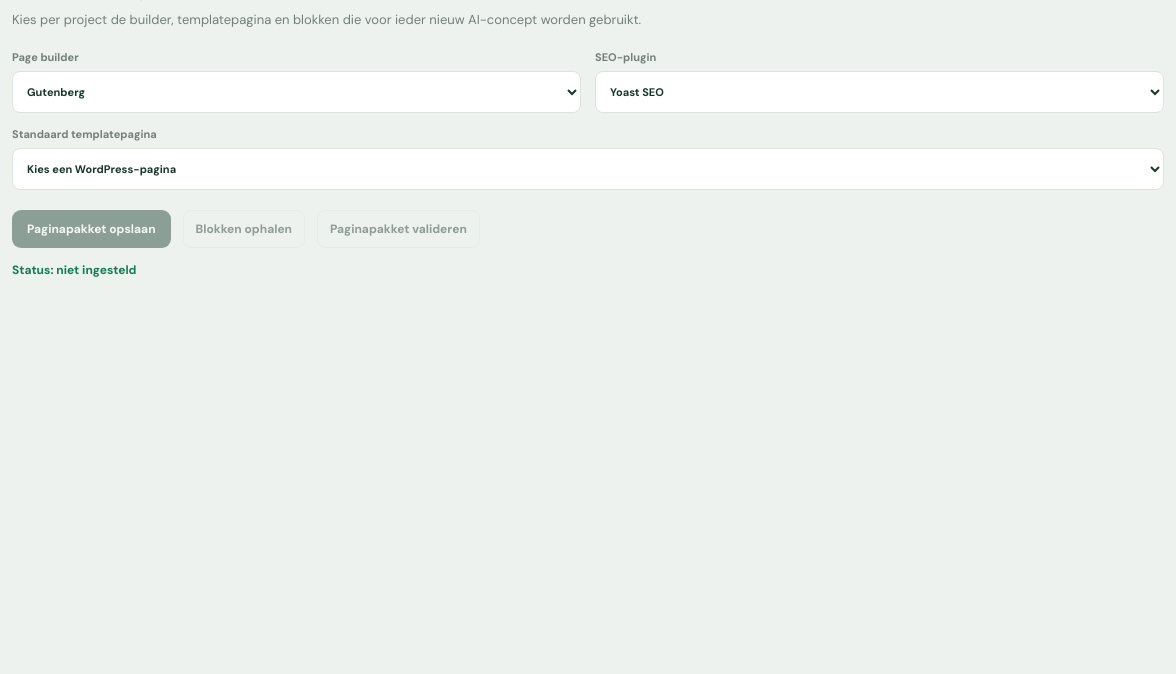
PagePackageSettingsPanel › loads discovered template blocks for one-time mapping
The width and height of the screenshot is (1176, 674).
Select "Elementor" in the dropdown labelled "Page builder": (296, 92) [12,71,581,113]
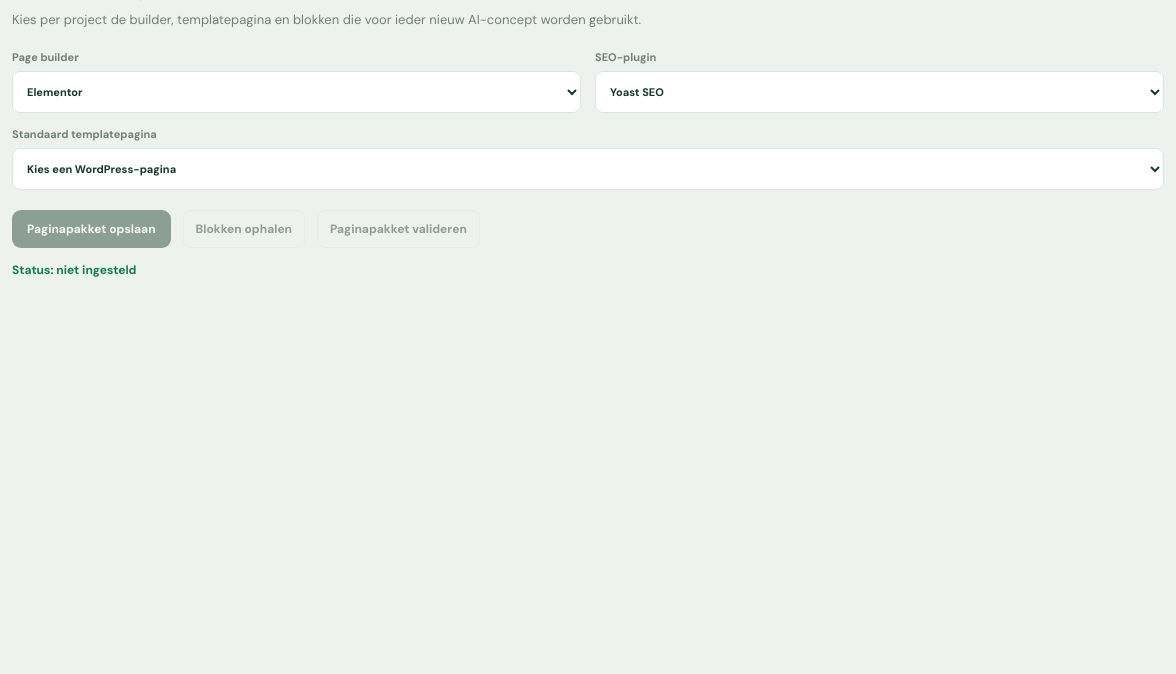
Select "Dienst template" in the dropdown labelled "Standaard templatepagina": (588, 169) [12,148,1164,190]
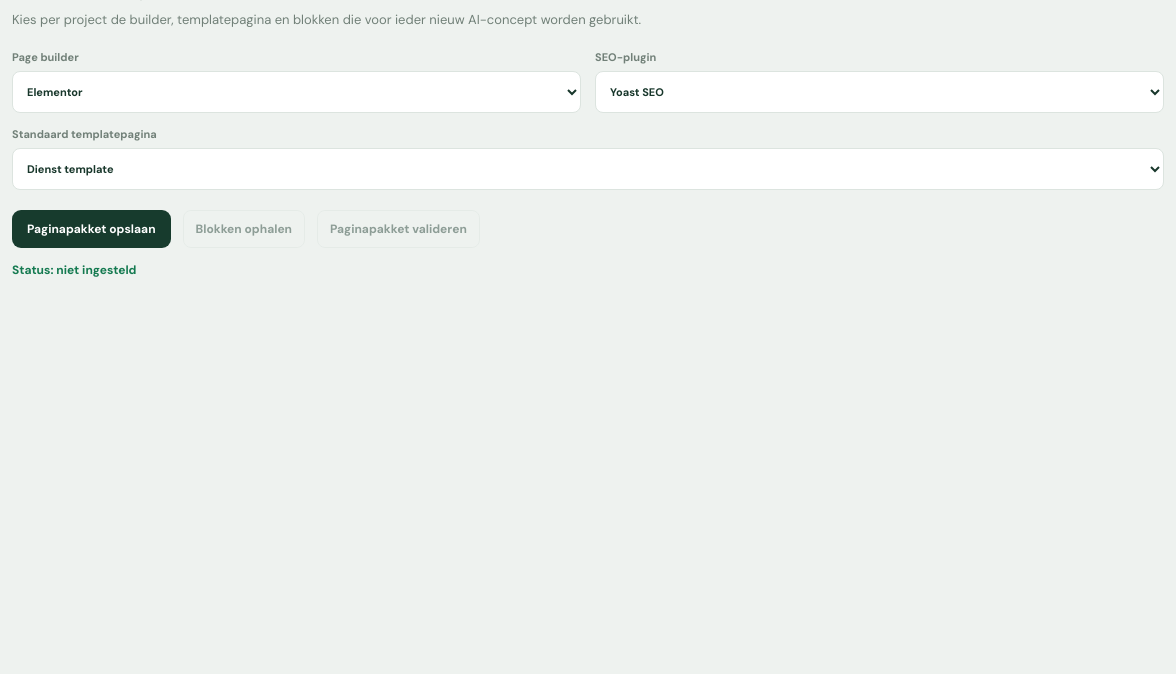
Click the button "Paginapakket opslaan": (91, 229) [12,210,170,248]
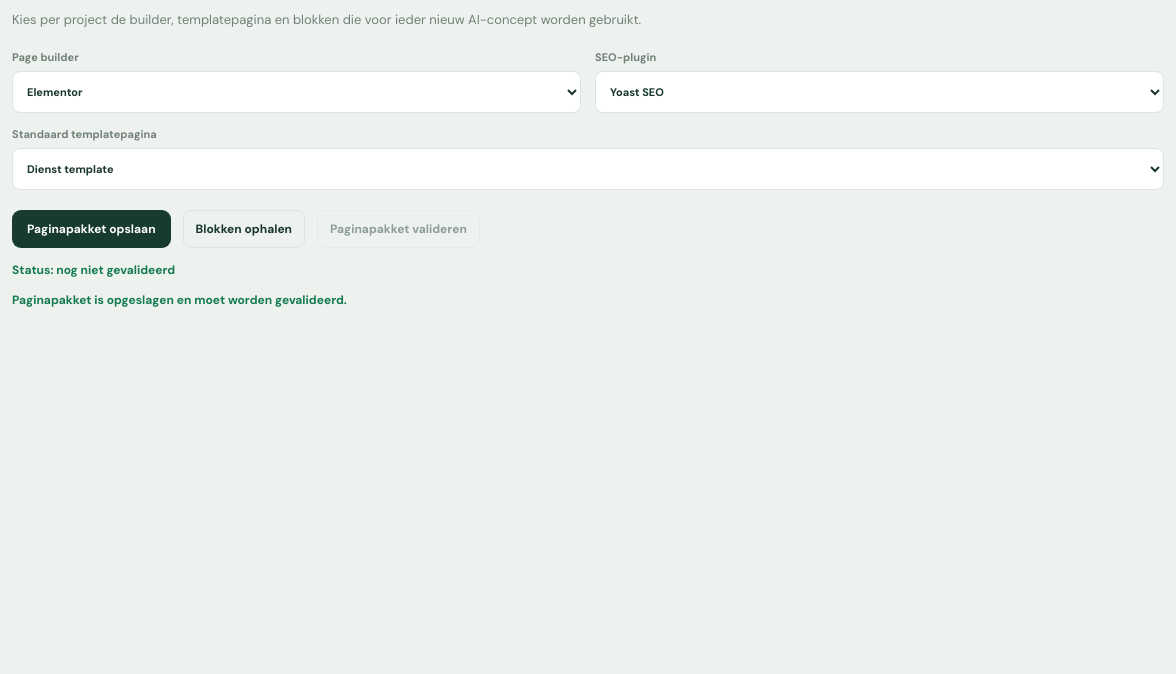
Expected: the text "Paginapakket is opgeslagen en moet worden gevalideerd." is shown, [12,292,347,308]
Click the button "Blokken ophalen": (244, 229) [182,210,305,248]
(page scrolled)
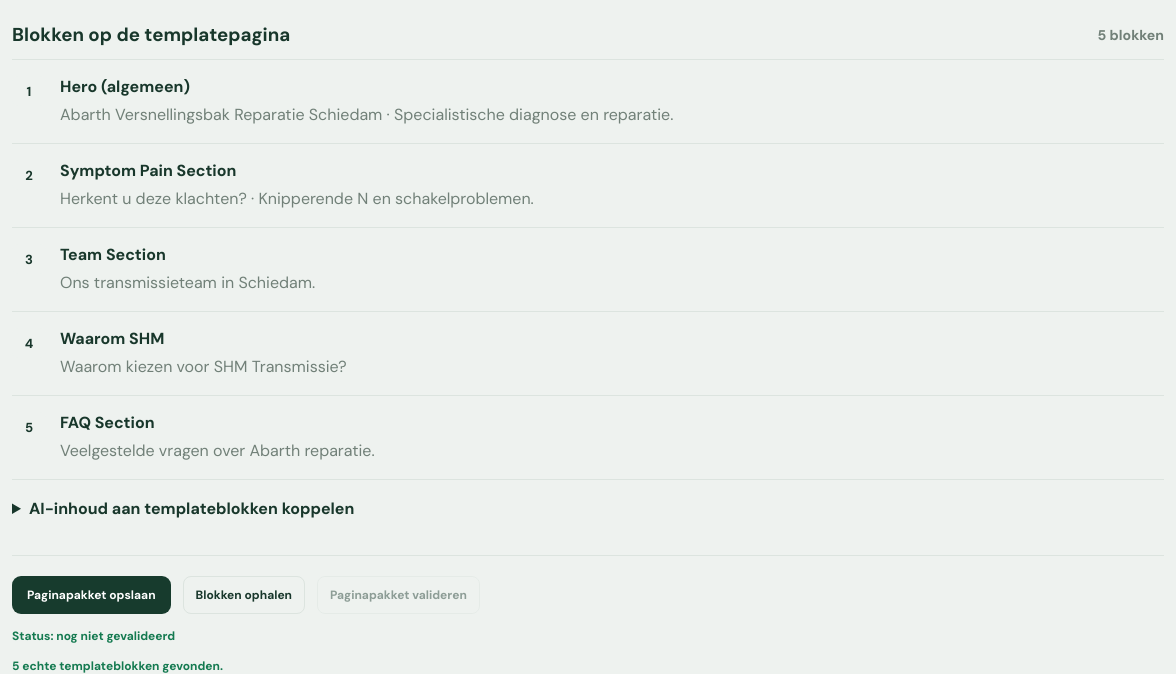
Click the heading "AI-inhoud aan templateblokken koppelen": (192, 509) [29,498,354,519]
(page scrolled)
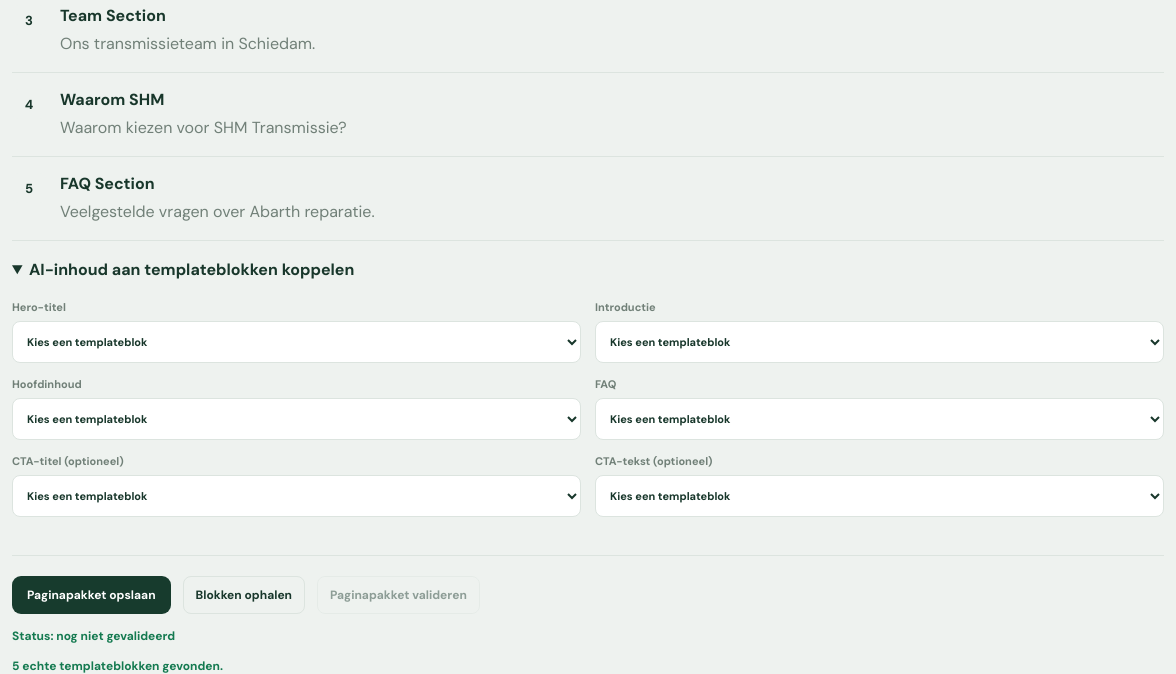
Expected: the heading "Team Section" is shown, [60,5,166,26]
Expected: the heading "Waarom SHM" is shown, [60,89,164,110]
Expected: the dropdown labelled "Hero-titel" is shown, [12,321,581,363]
